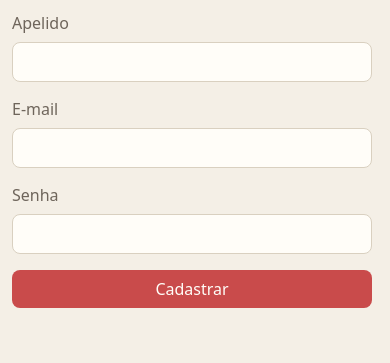
it: RegisterForm › mostra erro quando o cadastro falha
Type "teste" into the field labelled "Apelido" at x=192, y=62, box [12, 42, 372, 82]
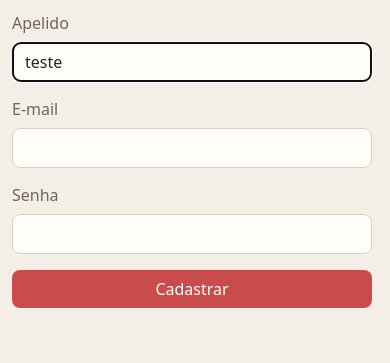
Type "a@b.com" into the field labelled "E-mail" at x=192, y=148, box [12, 128, 372, 168]
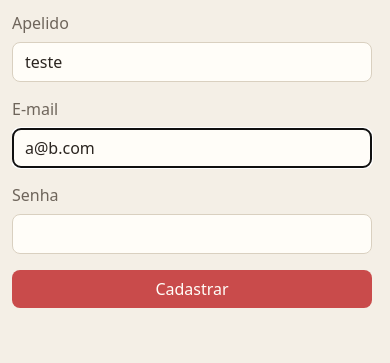
Type "Senha1@forte" into the password field labelled "Senha" at x=192, y=234, box [12, 214, 372, 254]
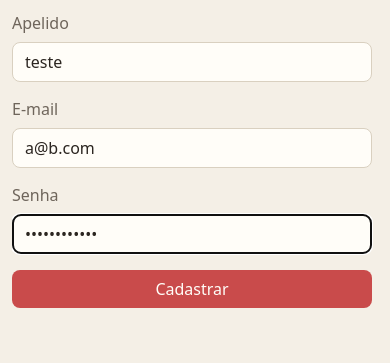
Click the button "Cadastrar" at x=192, y=289, box [12, 270, 372, 308]
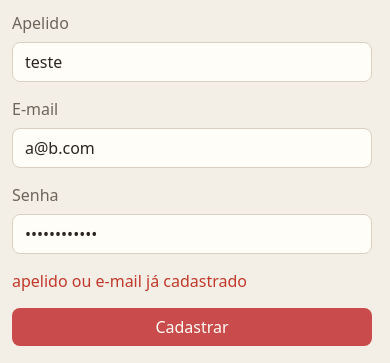
Result: the text "apelido ou e-mail já cadastrado" is shown at [12, 270, 247, 292]
